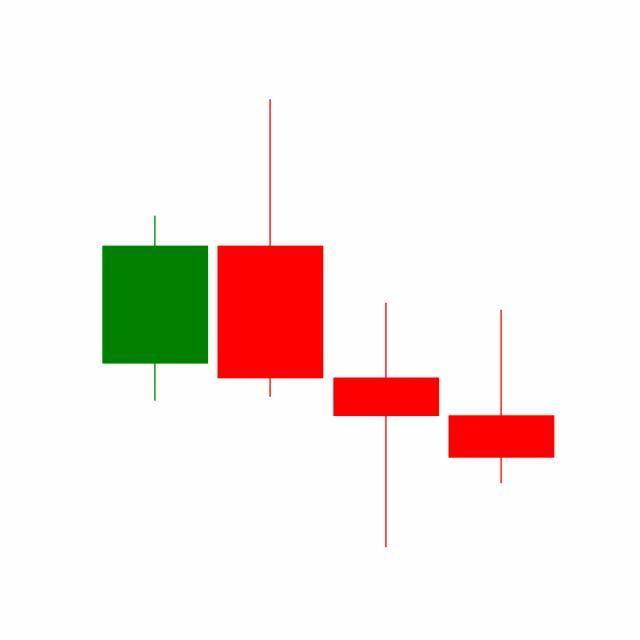Spinning Top: (329, 301, 445, 552)
